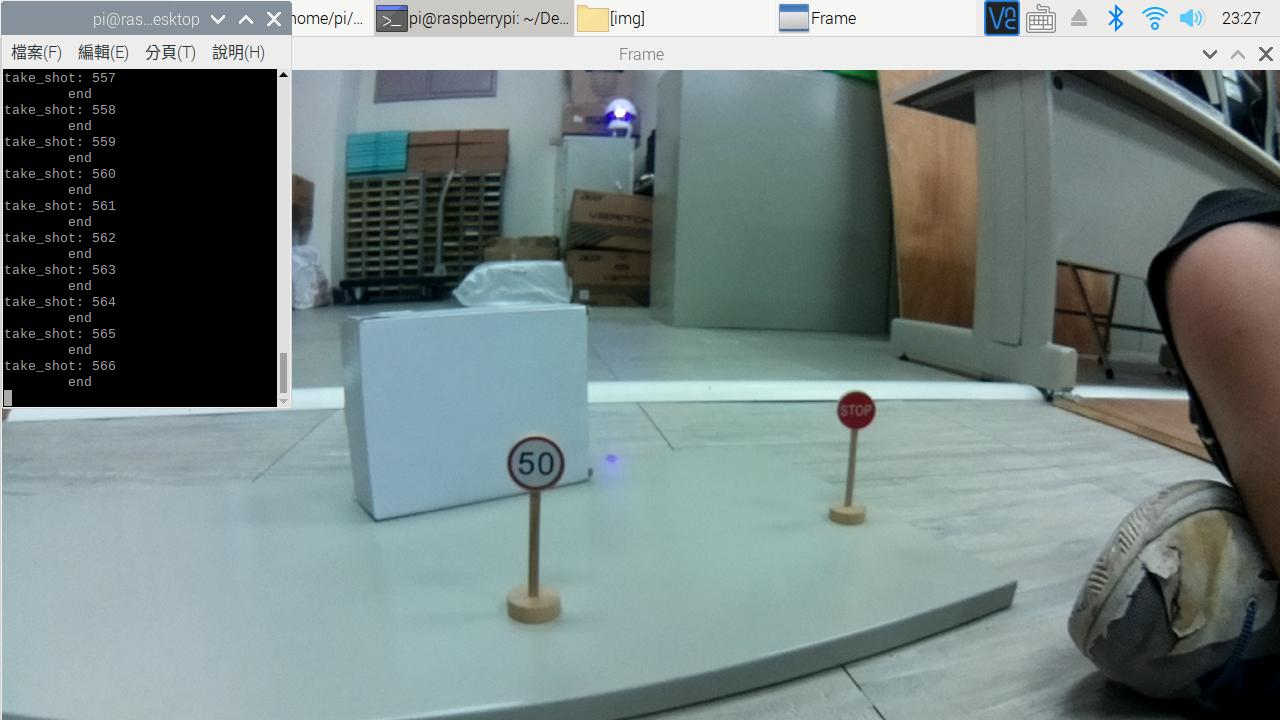Speed50: (500, 430, 572, 505)
Stop: (831, 383, 885, 442)
